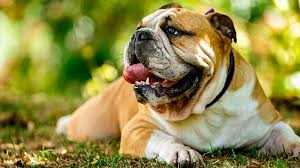Bulldog: (83, 5, 299, 165)
